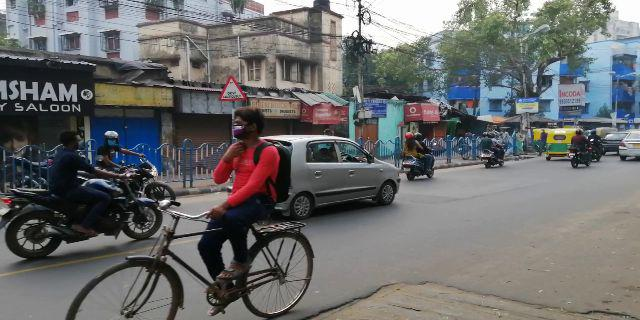Autorickshaw: (546, 125, 572, 162)
Car: (263, 125, 402, 210)
Cycle: (66, 109, 321, 320)
Motorbike: (1, 128, 157, 257), (400, 132, 434, 183), (567, 128, 597, 171), (478, 129, 508, 171)
